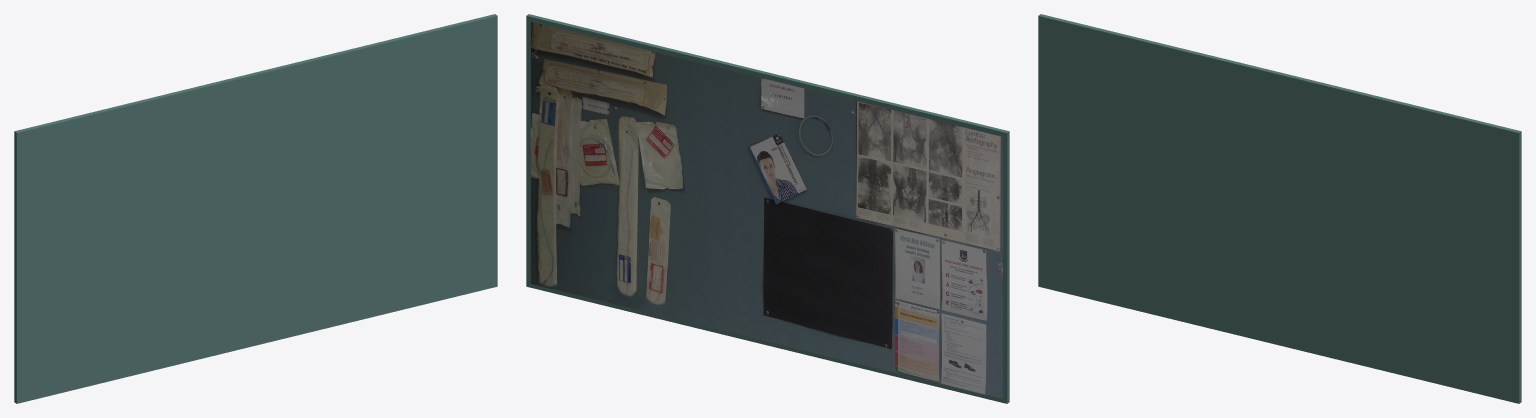
Rendered from Notice board.fbx.
The picture shows the model from 3 angles, left to right: view 1: azimuth 30°, elevation 25°; view 2: azimuth 150°, elevation 25°; view 3: azimuth 330°, elevation 25°; orthographic projection.
Visible parts, largest first — view 1: Notice_board_1; view 2: Notice_board_1; view 3: Notice_board_1.
Part boxes in pixels (bbox=[...]): Notice_board_1: bbox=[14, 14, 497, 403]; Notice_board_1: bbox=[526, 14, 1009, 403]; Notice_board_1: bbox=[1038, 14, 1521, 403].
Size of the model in its own units: 223 by 120 by 2.
1 material, 1 textured.
